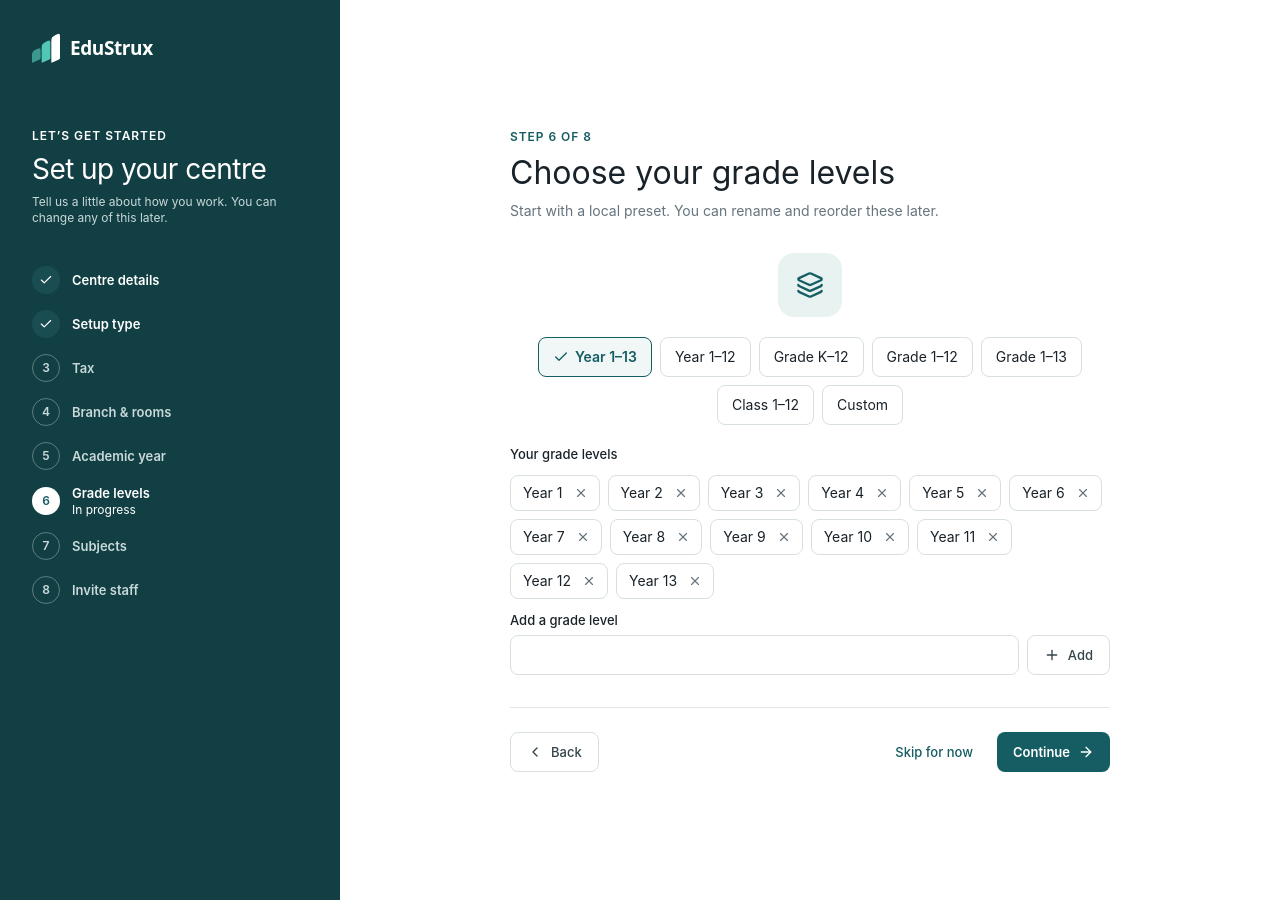
the setup wizard › starts grade levels from the country’s names and saves them in order
Expected: the list item "Year 13" is shown, [616, 562, 714, 598]
Click the button "Grade K–12" at coordinates (811, 356), box [759, 336, 864, 376]
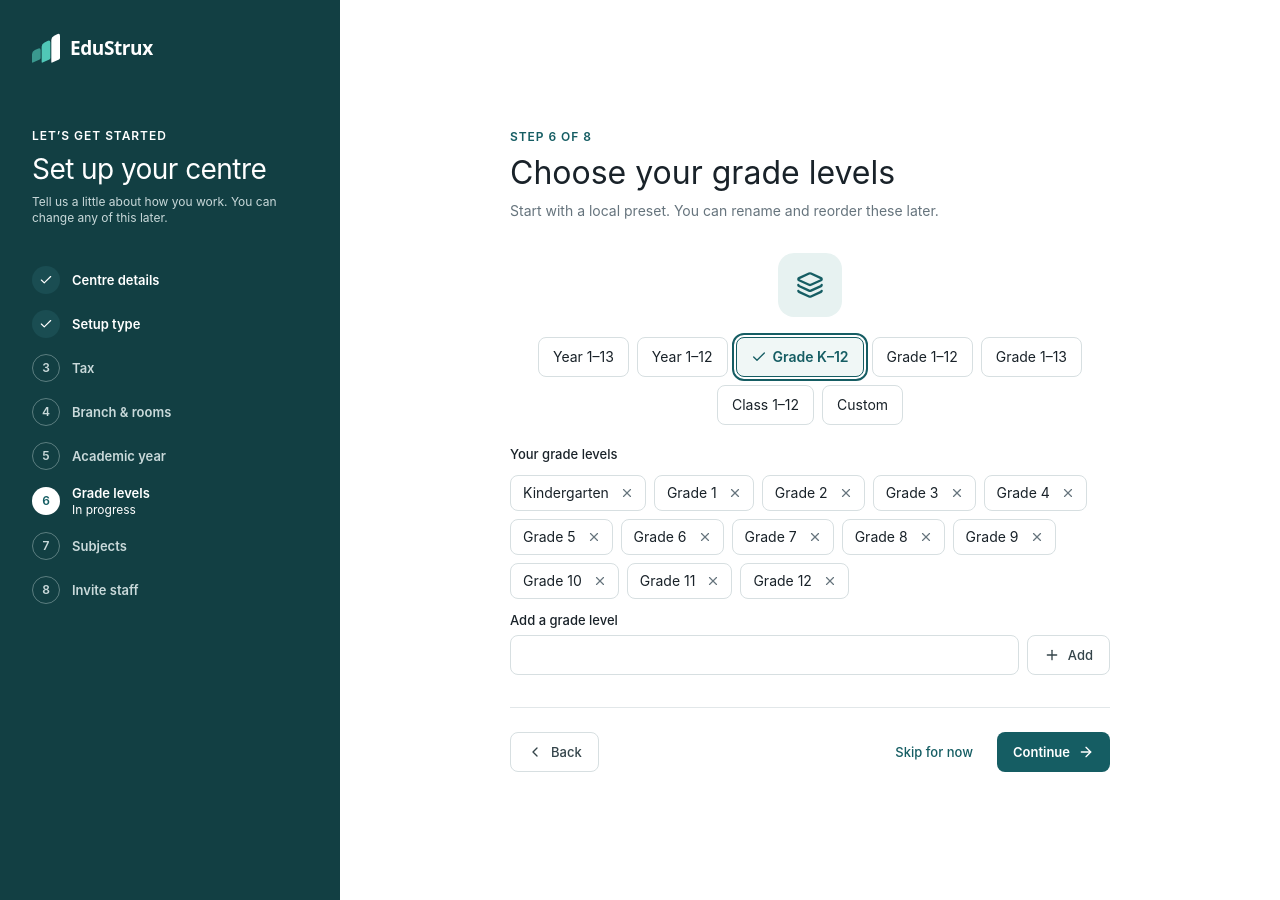
Click the button named "Remove Grade 12" at coordinates (830, 580), box [816, 566, 844, 594]
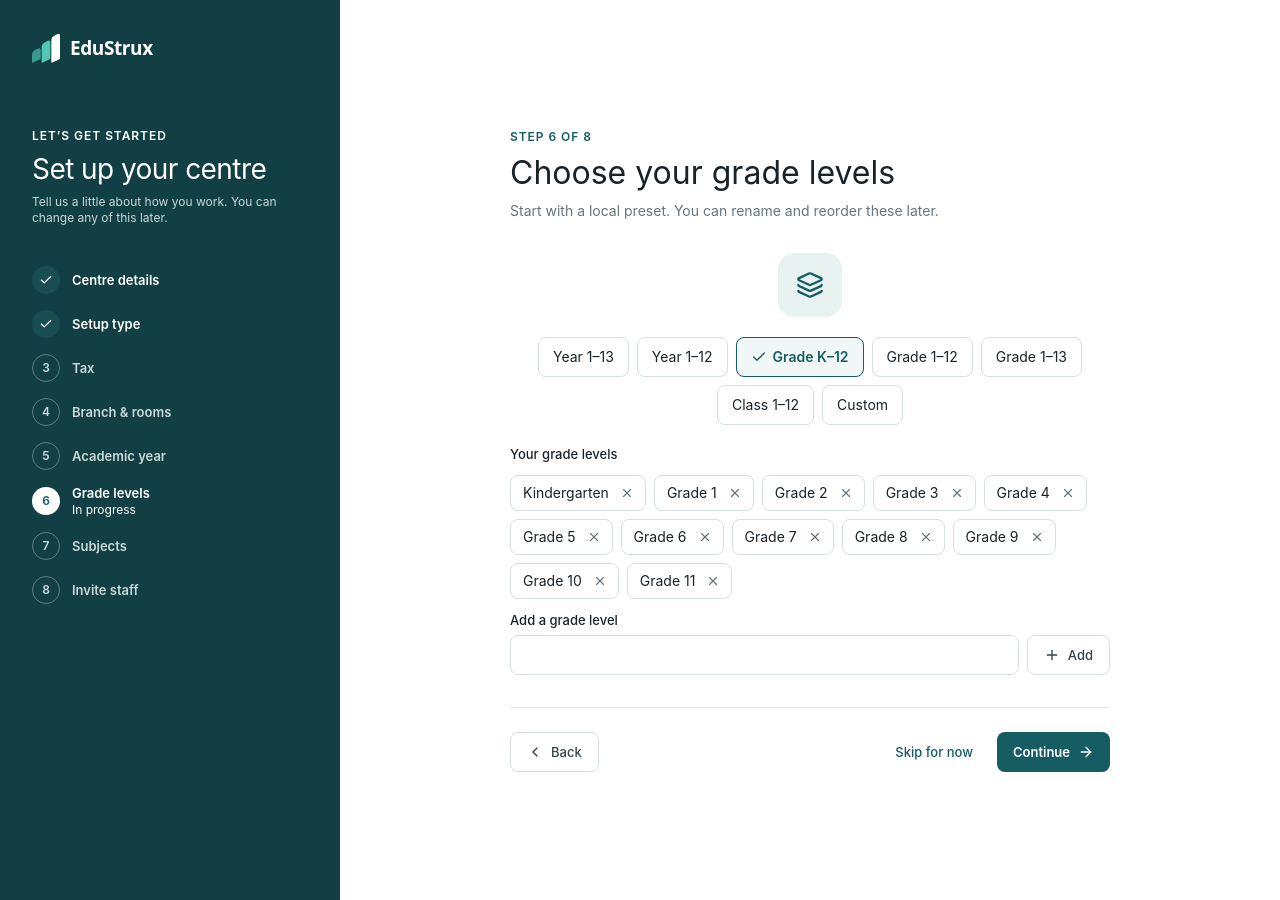
Type "Adult" into the field labelled "Add a grade level" at coordinates (764, 654), box [510, 634, 1019, 674]
Then press Enter
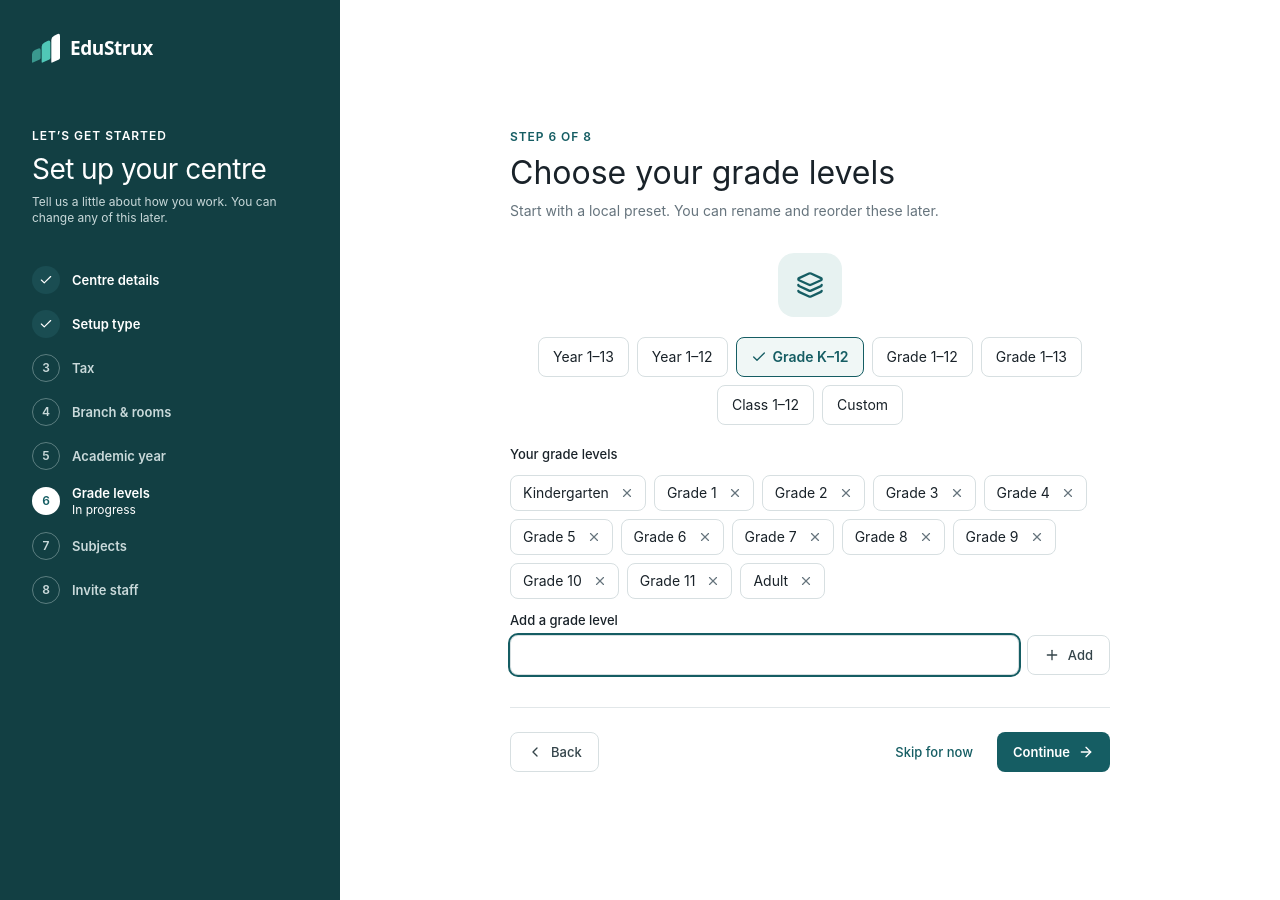
Click the button "Continue" at coordinates (1054, 752), box [997, 732, 1110, 772]
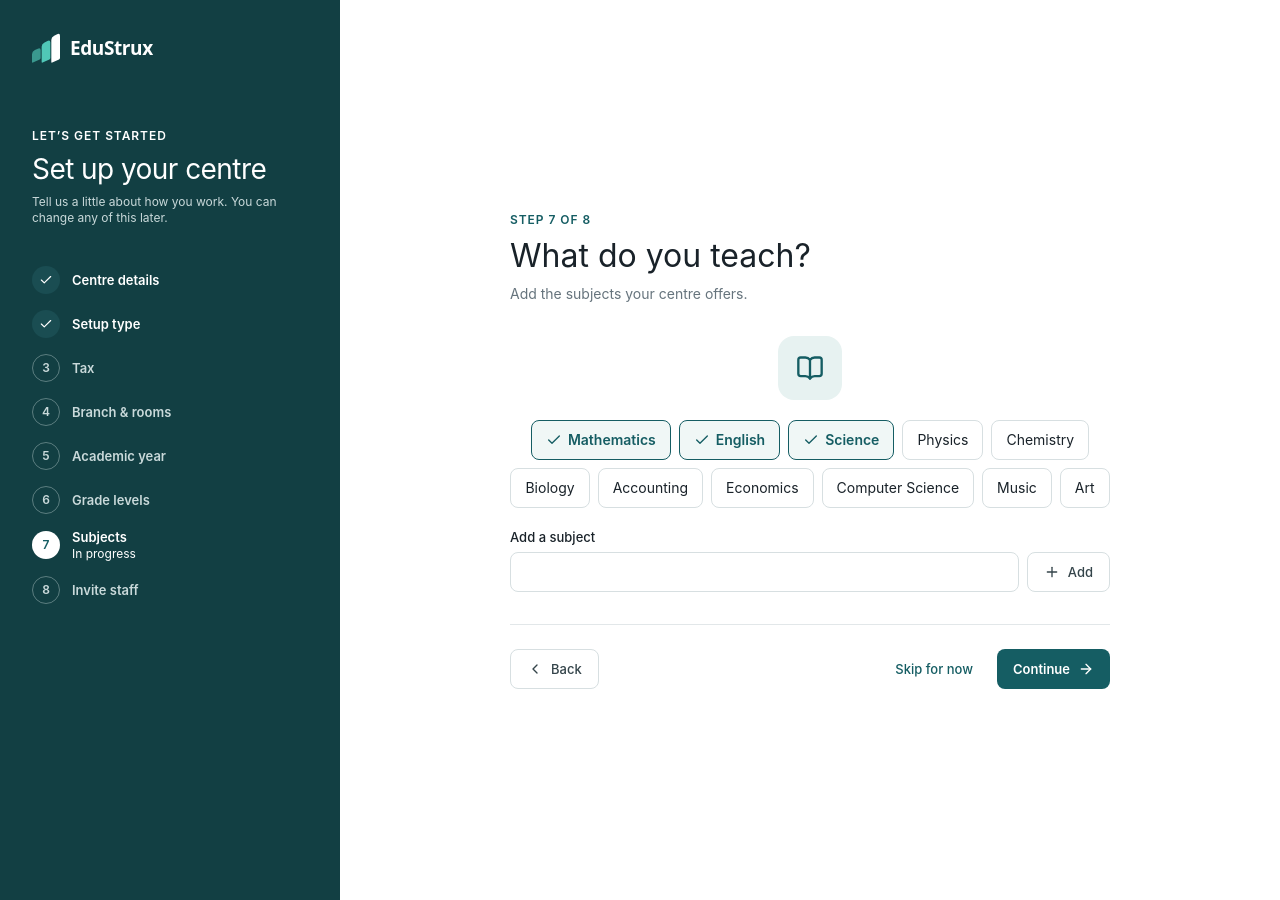
Now the heading "What do you teach?" is shown, box [510, 236, 811, 274]
